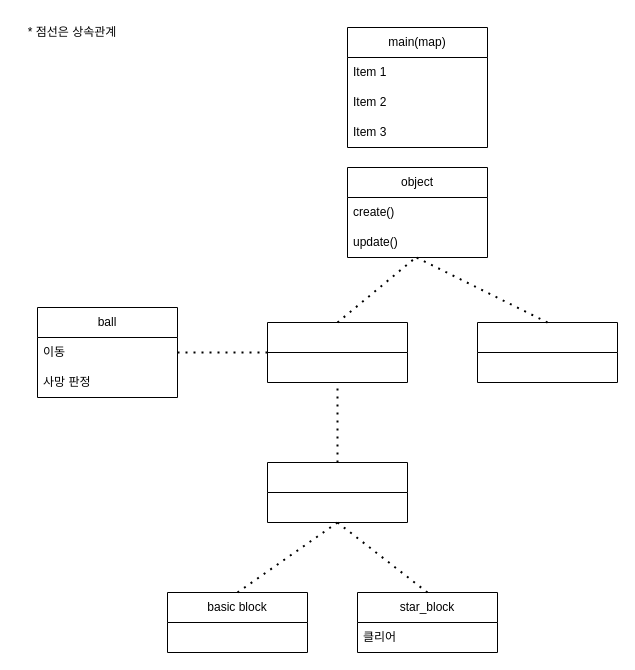
Some shapes in this 635 by 670 pixel diagram are drawn without their labels. The shapes that lost their labels are listed below. From the top down, each one's centre as x and y in pixels, then its label:
[337,352]: SolidObject
[547,352]: item
[337,492]: block
